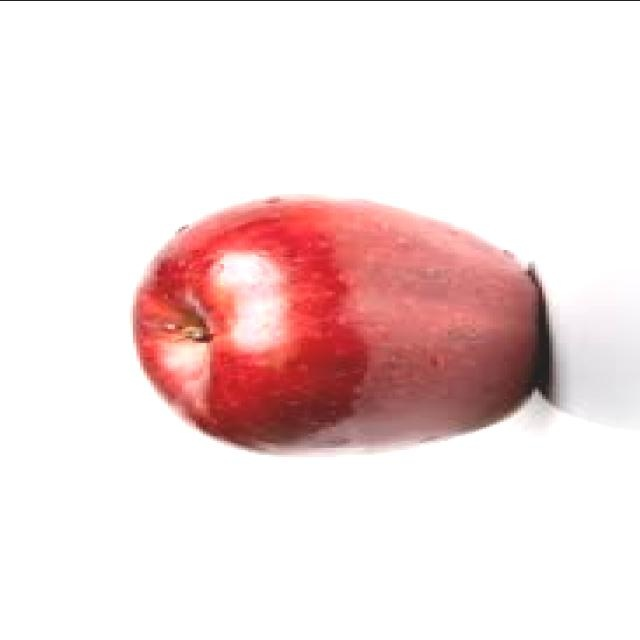agrume: (104, 168, 616, 485)
